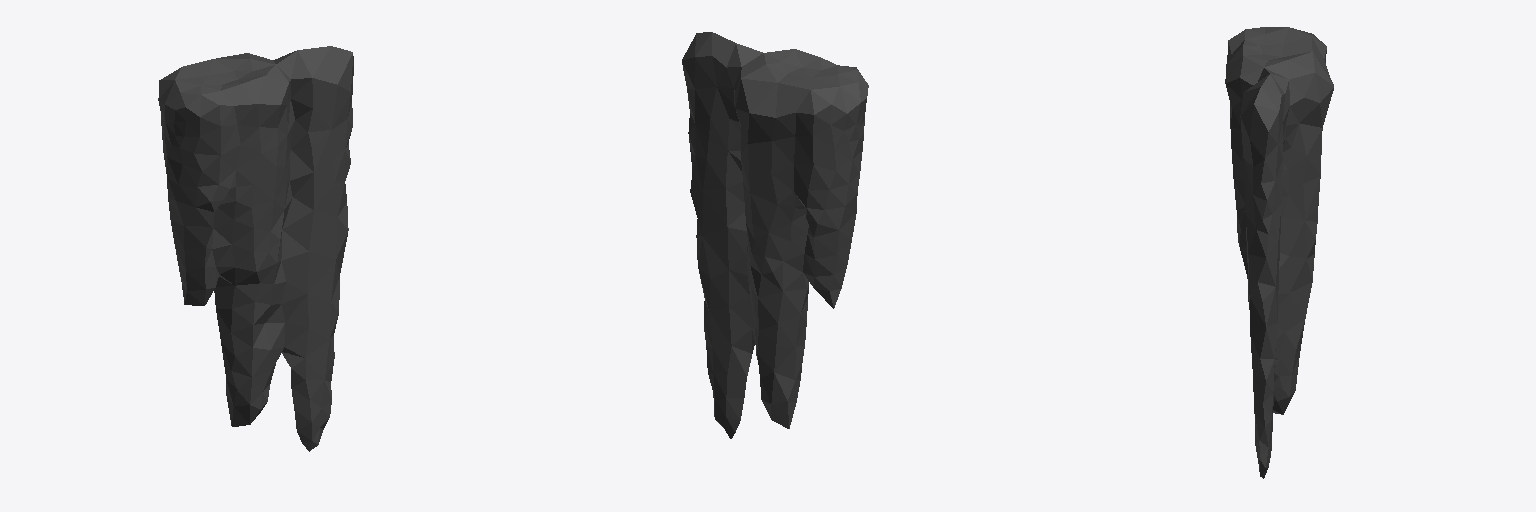
File: CaveRockPack1_High4.obj
3 renders of one model, left to right at view 1: azimuth 30°, elevation 25°; view 2: azimuth 150°, elevation 25°; view 3: azimuth 270°, elevation 25°, orthographic.
Visible parts, largest first — view 1: CaveRockPack1_High4; view 2: CaveRockPack1_High4; view 3: CaveRockPack1_High4.
Boxes of the visible parts, box(x1,y1,x2,y2) form: CaveRockPack1_High4: box(158, 46, 353, 451); CaveRockPack1_High4: box(682, 32, 868, 438); CaveRockPack1_High4: box(1225, 27, 1333, 478).
Bounding box in the file's own units: 10.26 × 21.39 × 5.26.